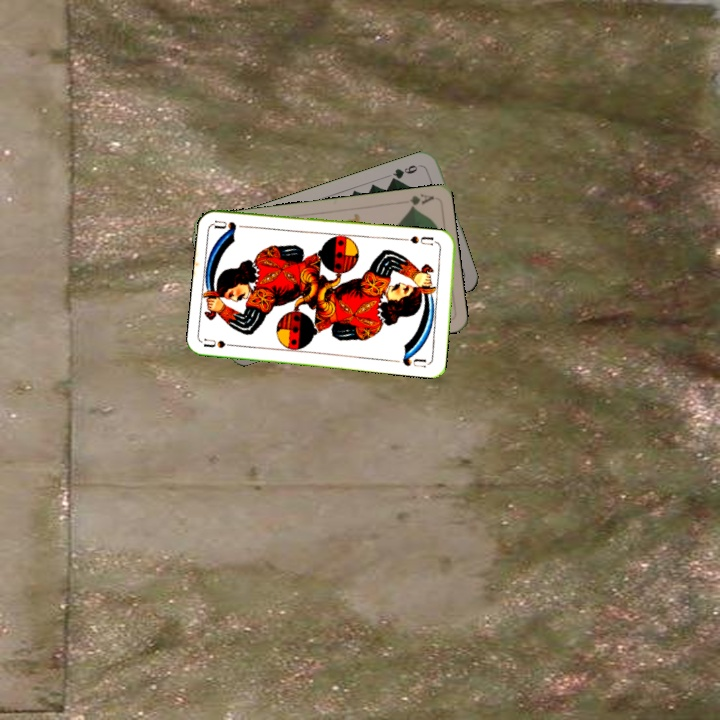G9: (387, 160, 424, 185)
GA: (406, 190, 436, 211)
SU: (201, 335, 242, 350), (406, 232, 441, 248)
